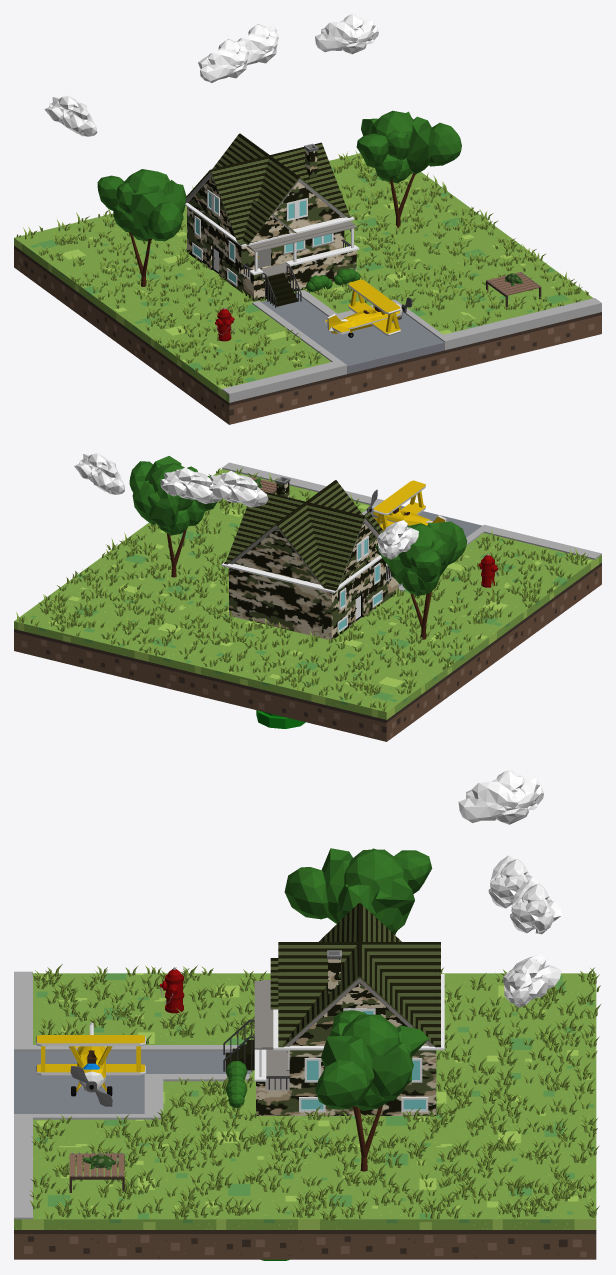
The picture shows the model from 3 angles, top to bottom: view 1: azimuth 30°, elevation 25°; view 2: azimuth 150°, elevation 25°; view 3: azimuth 270°, elevation 25°; orthographic projection. The views are drawn at different scales.
Visible parts, largest first — view 1: Cube.006, Cube.001, Circle.012_Grass_0.192, Cube.007, tree, tree.001, VEHICLES_AIRPLANE, Cube.009; view 2: Cube.006, Cube.001, Circle.012_Grass_0.192, Cube.007, tree.001, tree, VEHICLES_AIRPLANE, UNDERGROUND_PIPES, OBJRANDOM_FIRE_HYDRANT; view 3: Cube.006, Circle.012_Grass_0.192, Cube.001, tree, Cube.007, tree.001, VEHICLES_AIRPLANE, Cube.009, OBJRANDOM_FIRE_HYDRANT.
Part boxes in pixels (bbox=[...]): Cube.006: bbox=[14, 153, 601, 424]; Cube.001: bbox=[185, 133, 359, 307]; Circle.012_Grass_0.192: bbox=[16, 150, 588, 386]; Cube.007: bbox=[44, 14, 378, 136]; tree: bbox=[356, 110, 461, 228]; tree.001: bbox=[97, 169, 186, 286]; VEHICLES_AIRPLANE: bbox=[325, 279, 412, 337]; Cube.009: bbox=[486, 272, 541, 306]; Cube.006: bbox=[14, 462, 601, 741]; Cube.001: bbox=[221, 476, 398, 640]; Circle.012_Grass_0.192: bbox=[16, 468, 588, 711]; Cube.007: bbox=[74, 453, 418, 559]; tree.001: bbox=[375, 521, 467, 639]; tree: bbox=[129, 456, 216, 577]; VEHICLES_AIRPLANE: bbox=[366, 480, 447, 530]; UNDERGROUND_PIPES: bbox=[256, 710, 305, 728]; OBJRANDOM_FIRE_HYDRANT: bbox=[478, 554, 498, 587]; Cube.006: bbox=[14, 971, 596, 1259]; Circle.012_Grass_0.192: bbox=[29, 964, 600, 1220]; Cube.001: bbox=[223, 903, 444, 1115]; tree: bbox=[315, 1010, 428, 1171]; Cube.007: bbox=[458, 770, 561, 1007]; tree.001: bbox=[284, 848, 432, 934]; VEHICLES_AIRPLANE: bbox=[36, 1022, 145, 1106]; Cube.009: bbox=[69, 1152, 124, 1192]; OBJRANDOM_FIRE_HYDRANT: bbox=[160, 967, 184, 1013].
Size of the model in its own units: 4071 by 2759 by 4040.
40 materials, 5 textured.
